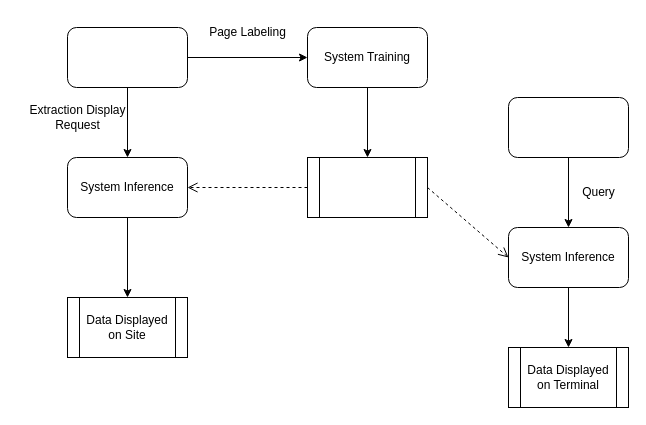
Some shapes in this 646 by 425 pixel diagram are drawn without their labels. Here are the shapes that lost their labels. From the top down, the box of each, then its label:
(66, 26, 188, 88): Chrome Extension
(508, 96, 628, 158): Crawler Module
(306, 156, 428, 218): Saved Wrapper Files
